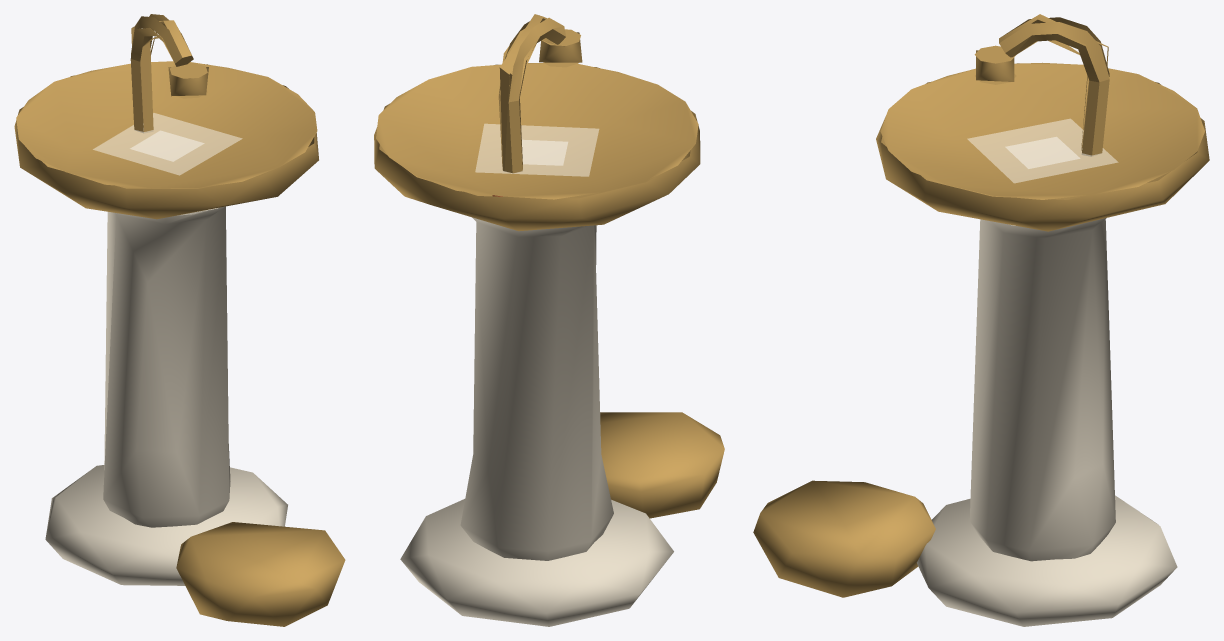
File: lod_drinking_fountain.glb
3 renders of one model, left to right at view 1: azimuth 30°, elevation 25°; view 2: azimuth 150°, elevation 25°; view 3: azimuth 270°, elevation 25°, orthographic. The views are drawn at different scales.
Parts seen in each view (by area): view 1: drinking_fountain; view 2: drinking_fountain; view 3: drinking_fountain.
Part boxes in pixels (x1,y1,x2,y2): drinking_fountain: [14, 14, 345, 626]; drinking_fountain: [374, 14, 724, 626]; drinking_fountain: [753, 14, 1209, 626].
Bounding box in the file's own units: 0.7092 × 1.31 × 0.9698.
